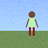person: (26, 11, 38, 35)
